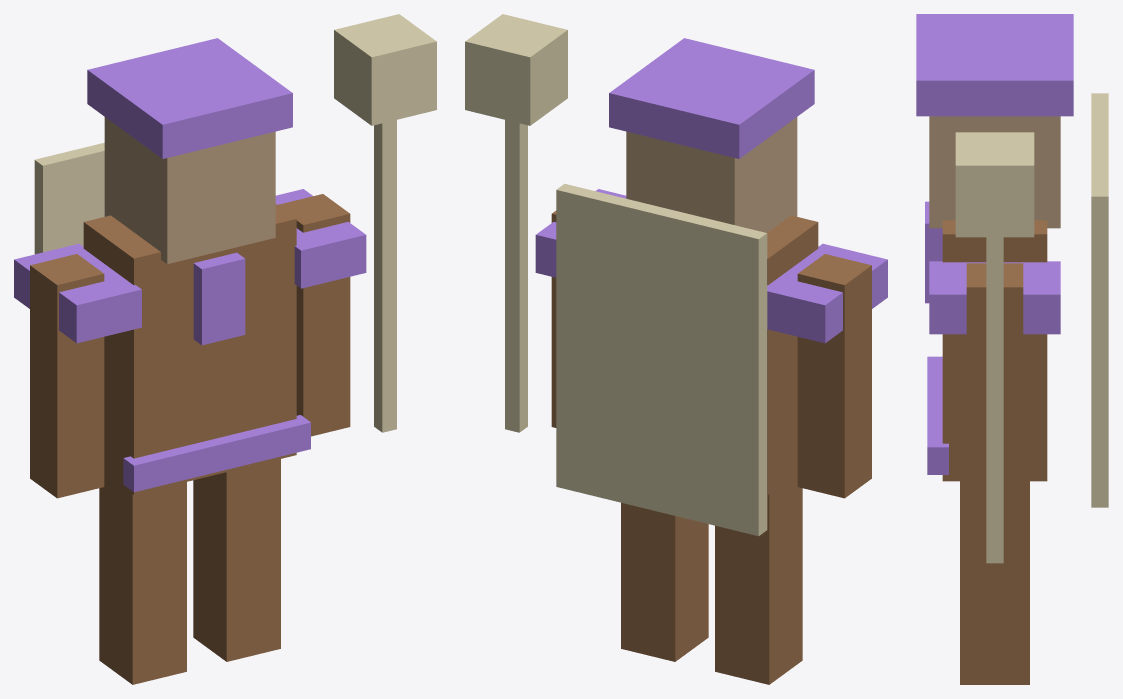
The model's file is 13_bex_stormhush_keeper_of_bonewind.glb.
3 views of the same model, side by side, from view 1: azimuth 30°, elevation 25°; view 2: azimuth 150°, elevation 25°; view 3: azimuth 270°, elevation 25° (orthographic). The views are drawn at different scales.
Parts seen in each view (by area): view 1: Bex Stormhush, Keeper of Bonewind; view 2: Bex Stormhush, Keeper of Bonewind; view 3: Bex Stormhush, Keeper of Bonewind.
Part boxes in pixels (x1=…): Bex Stormhush, Keeper of Bonewind: x1=14, y1=14, x2=436, y2=684; Bex Stormhush, Keeper of Bonewind: x1=465, y1=14, x2=887, y2=684; Bex Stormhush, Keeper of Bonewind: x1=916, y1=14, x2=1108, y2=684.
Bounding box in the file's own units: 0.9759 × 1.43 × 0.4149.
